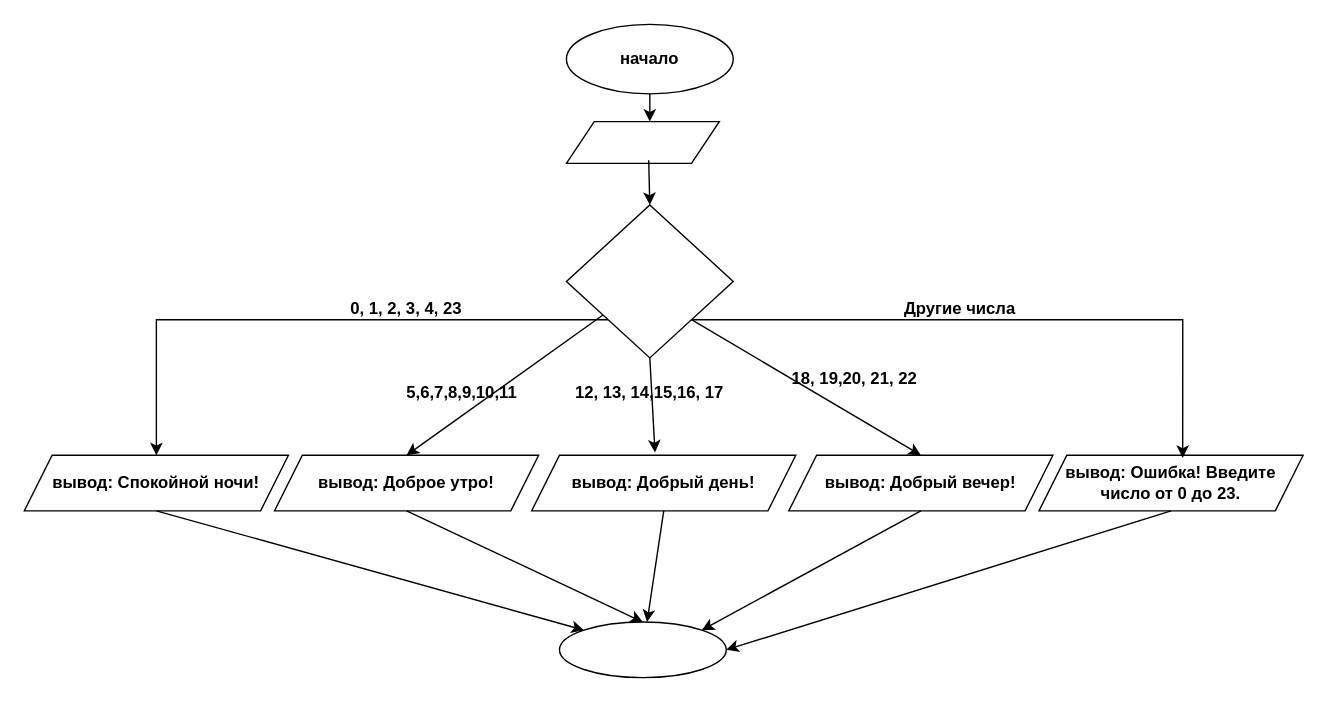
Image size: 1327x702. Some labels were removed from this diagram. The shapes that lost their labels are listed below. From the top down, each one's centre as x and y in pixels, then its label:
At (x=642, y=141): "ввод hour".
At (x=649, y=281): "выбор по hour".
At (x=642, y=649): "конец".
